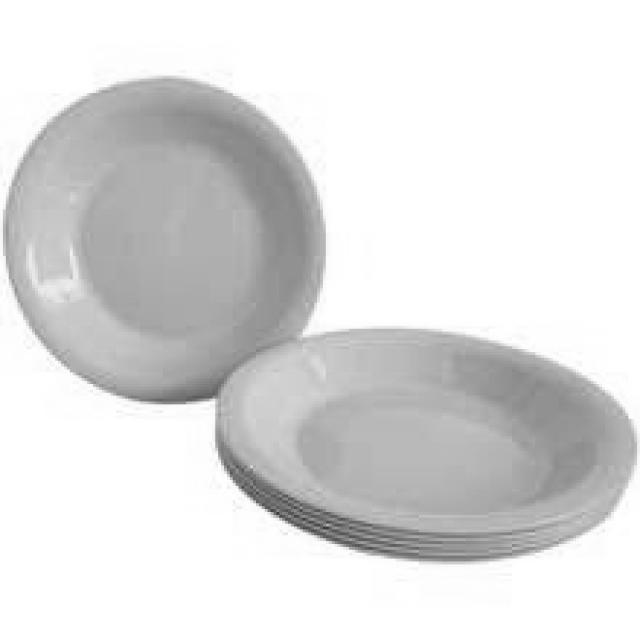dish: (174, 311, 640, 567)
